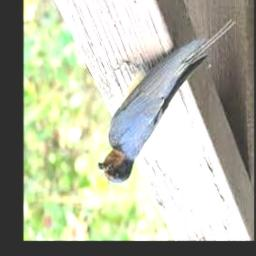Swallow: (98, 18, 236, 186)
